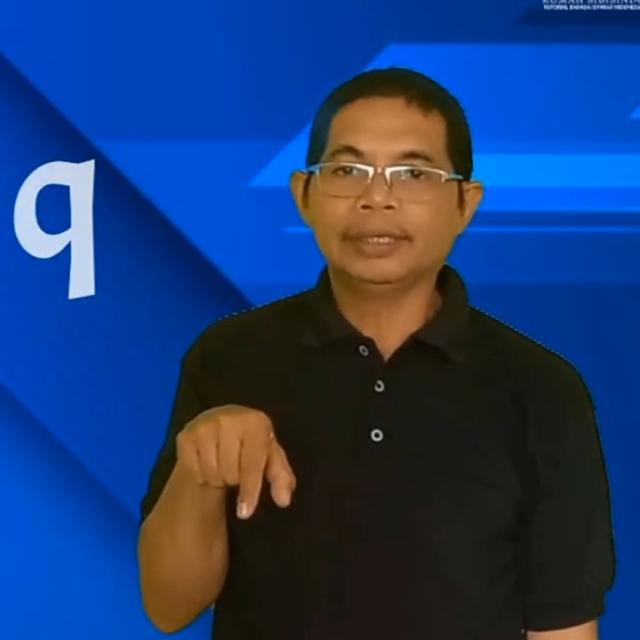Q: (172, 400, 300, 522)
